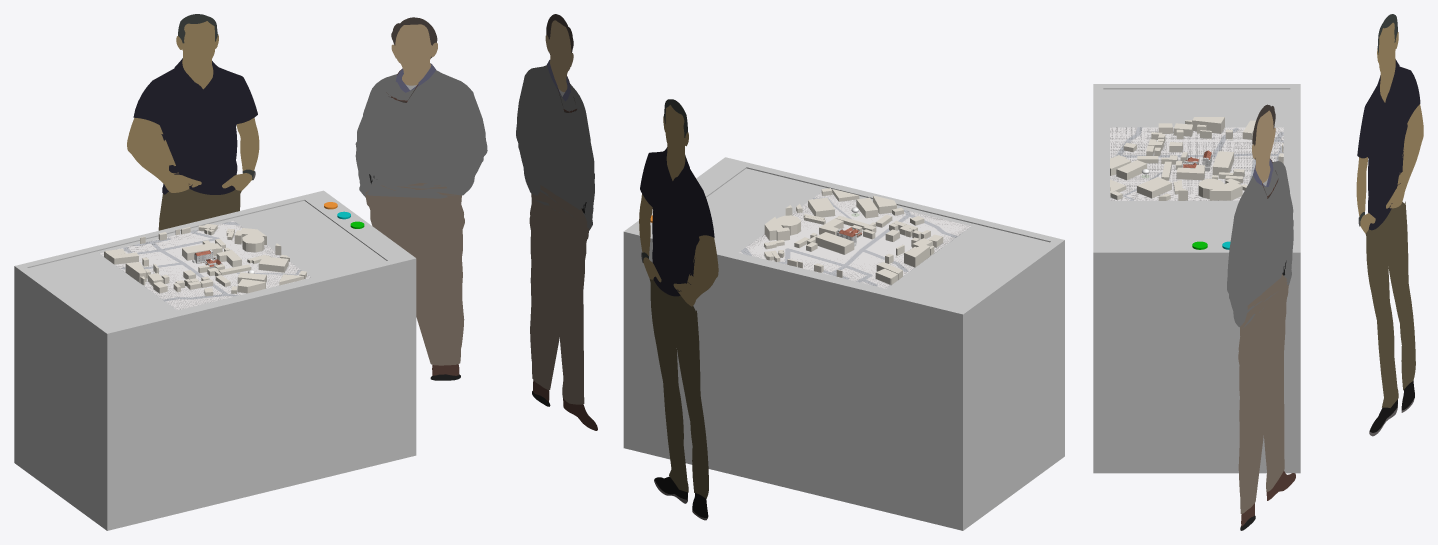
Rendered from V campus model.obj.
3 views of the same model, side by side, from view 1: azimuth 30°, elevation 25°; view 2: azimuth 150°, elevation 25°; view 3: azimuth 270°, elevation 25° (orthographic). The views are drawn at different scales.
Parts seen in each view (by area): view 1: Mesh5648 Group5094 Model, Mesh1 Group1 Model, Mesh5653 Derrick1 Model, Mesh5652 Chris1 Model, Mesh5654 Model, Mesh5604 Buildings_32 Group5092 Model; view 2: Mesh5648 Group5094 Model, Mesh1 Group1 Model, Mesh5653 Derrick1 Model, Mesh5652 Chris1 Model, Mesh5654 Model, Mesh5604 Buildings_32 Group5092 Model; view 3: Mesh5648 Group5094 Model, Mesh1 Group1 Model, Mesh5653 Derrick1 Model, Mesh5652 Chris1 Model, Mesh5654 Model, Mesh5647 Group5093 Model, Mesh5604 Buildings_32 Group5092 Model, Mesh5614 Buildings_29 Group5092 Model, Mesh5608 Buildings_14 Group5092 Model, Mesh5616 Buildings_10 Group5092 Model, Mesh5625 Buildings_49 Group5092 Model.
Boxes of the visible parts, <box> form: Mesh5648 Group5094 Model: <box>14,289,416,530</box>; Mesh1 Group1 Model: <box>14,190,416,364</box>; Mesh5653 Derrick1 Model: <box>355,17,487,380</box>; Mesh5652 Chris1 Model: <box>127,14,259,230</box>; Mesh5654 Model: <box>99,221,311,310</box>; Mesh5604 Buildings_32 Group5092 Model: <box>234,228,266,252</box>; Mesh5648 Group5094 Model: <box>623,266,1064,530</box>; Mesh1 Group1 Model: <box>623,157,1064,348</box>; Mesh5653 Derrick1 Model: <box>516,14,597,430</box>; Mesh5652 Chris1 Model: <box>639,99,718,520</box>; Mesh5654 Model: <box>738,192,971,288</box>; Mesh5604 Buildings_32 Group5092 Model: <box>764,215,800,240</box>; Mesh5648 Group5094 Model: <box>1093,287,1300,473</box>; Mesh1 Group1 Model: <box>1093,84,1300,287</box>; Mesh5653 Derrick1 Model: <box>1227,104,1295,530</box>; Mesh5652 Chris1 Model: <box>1356,14,1423,436</box>; Mesh5654 Model: <box>1110,127,1283,200</box>; Mesh5647 Group5093 Model: <box>1110,127,1283,200</box>; Mesh5604 Buildings_32 Group5092 Model: <box>1198,178,1242,200</box>; Mesh5614 Buildings_29 Group5092 Model: <box>1137,177,1171,198</box>; Mesh5608 Buildings_14 Group5092 Model: <box>1192,117,1224,133</box>; Mesh5616 Buildings_10 Group5092 Model: <box>1212,151,1233,175</box>; Mesh5625 Buildings_49 Group5092 Model: <box>1116,160,1146,180</box>.
Bounding box in the file's own units: 2220 × 1765 × 1291.
